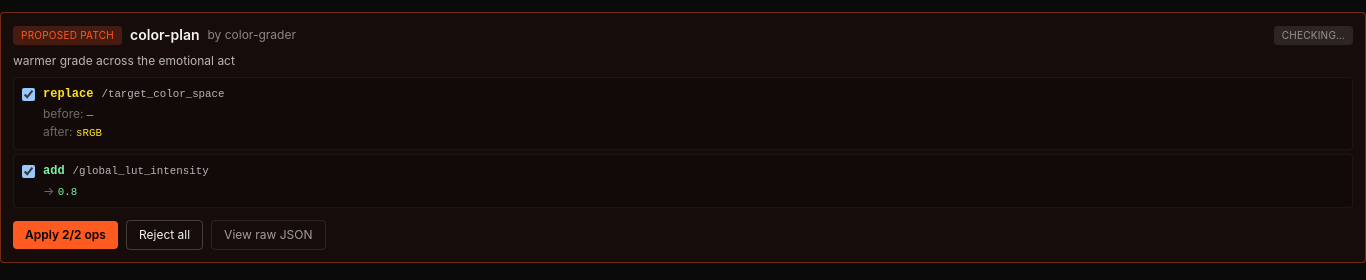
Test: <ArtifactDiffReview /> › posts apply with only accepted ops when one is unchecked
Expected: the button "Apply 2/2 ops" is shown, [13,221,118,249]
Click the checkbox labelled "add /global_lut_intensity → 0.8": {"x": 28, "y": 171} [22,165,35,178]
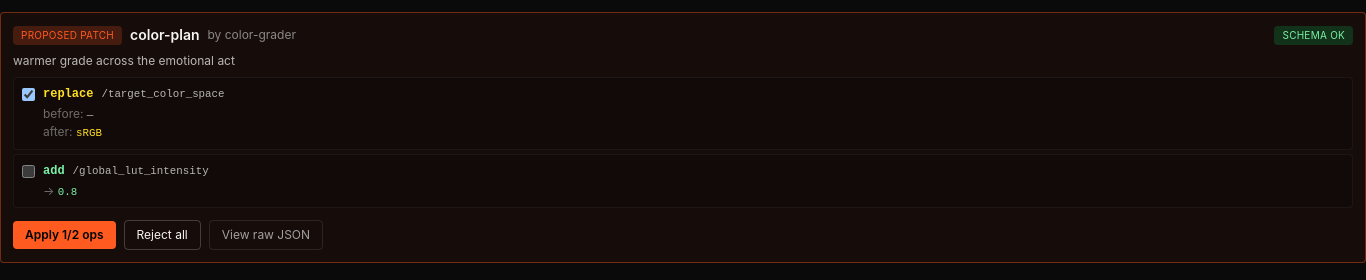
Expected: the button "Apply 1/2 ops" is shown
Click the button "Apply 1/2 ops": {"x": 64, "y": 235} [13,221,116,249]
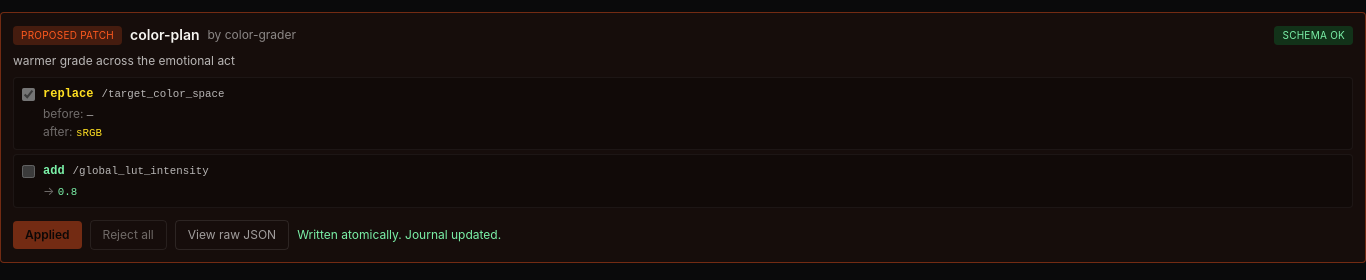
Expected: the button "Applied" is shown, [13,221,82,249]
